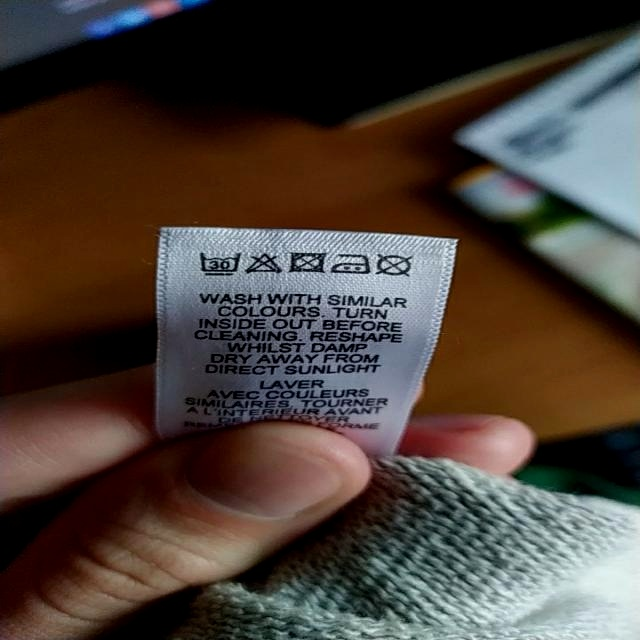30C: (198, 244, 246, 279)
DN_bleach: (246, 248, 283, 275)
DN_dry_clean: (376, 252, 419, 280)
DN_tumble_dry: (287, 249, 329, 279)
iron_medium: (331, 250, 372, 277)
